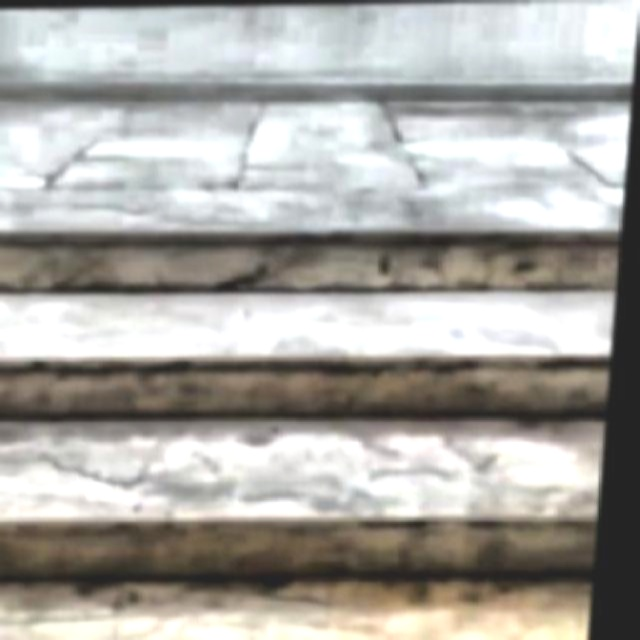stair: (2, 220, 626, 638)
